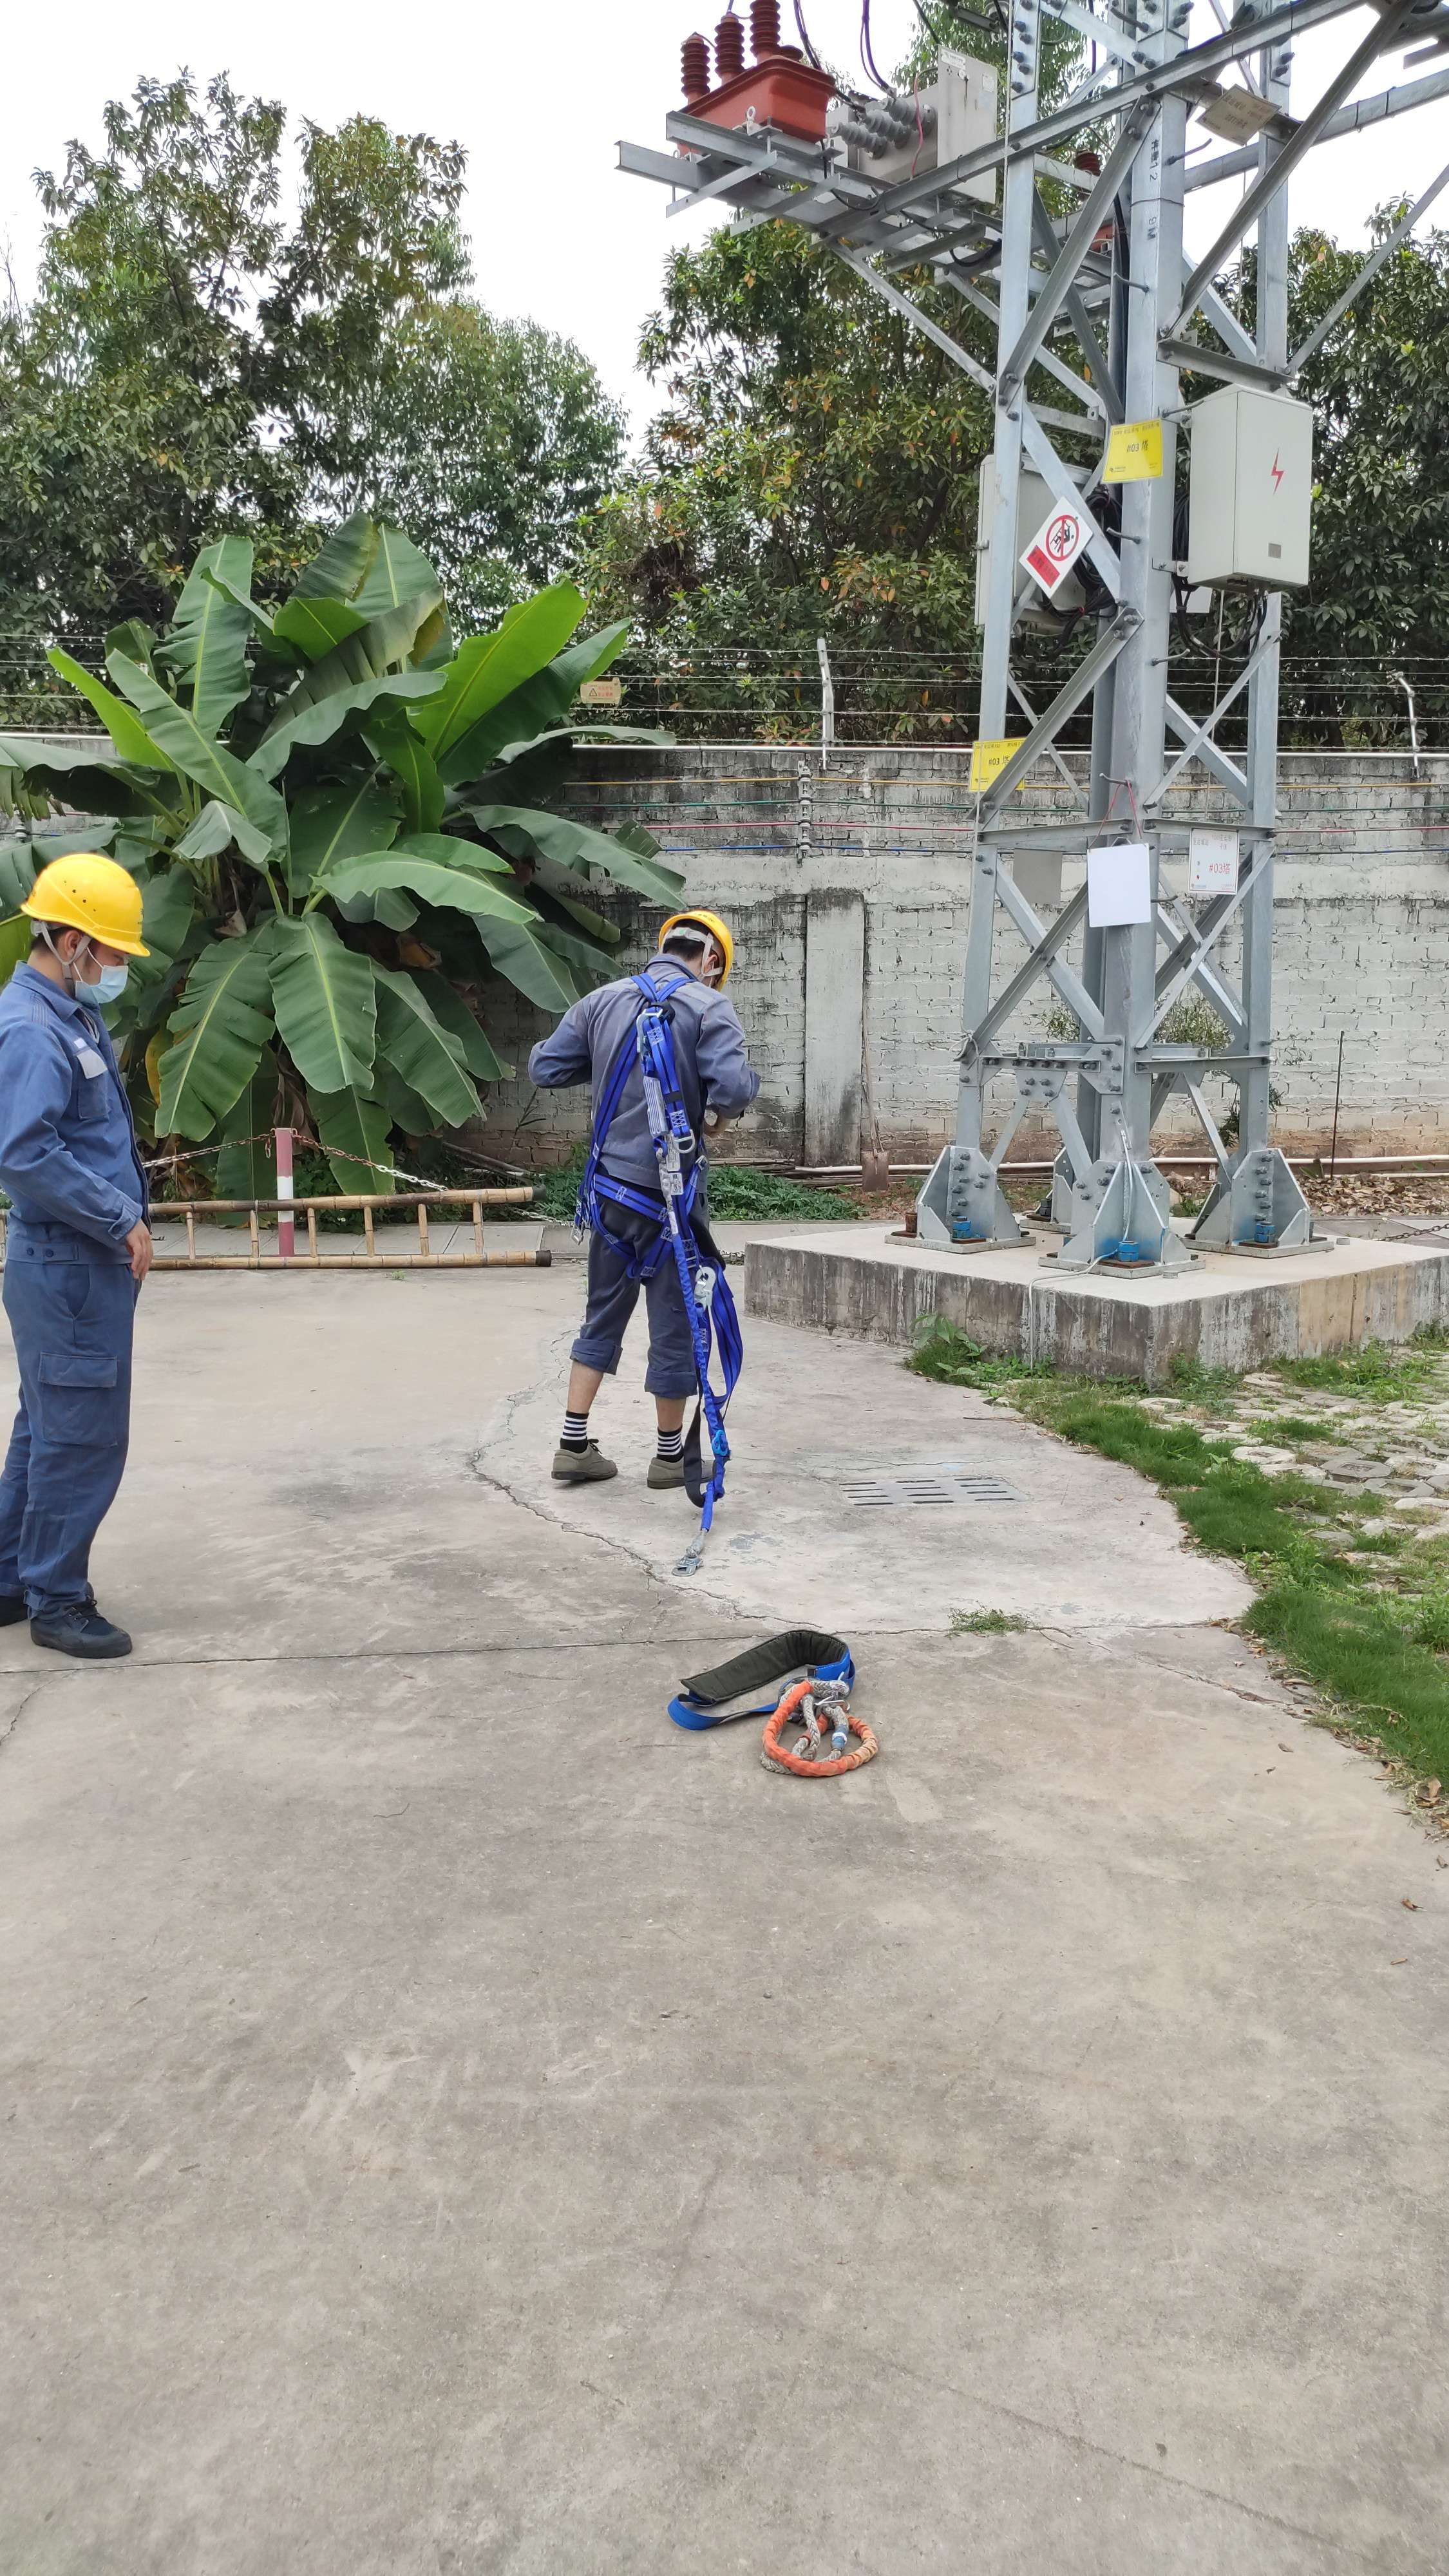downsuit: (2, 1267, 140, 1612), (573, 1192, 709, 1398)
upsuit: (531, 955, 761, 1192), (2, 959, 152, 1265)
wrongbottom: (552, 1355, 702, 1456)
